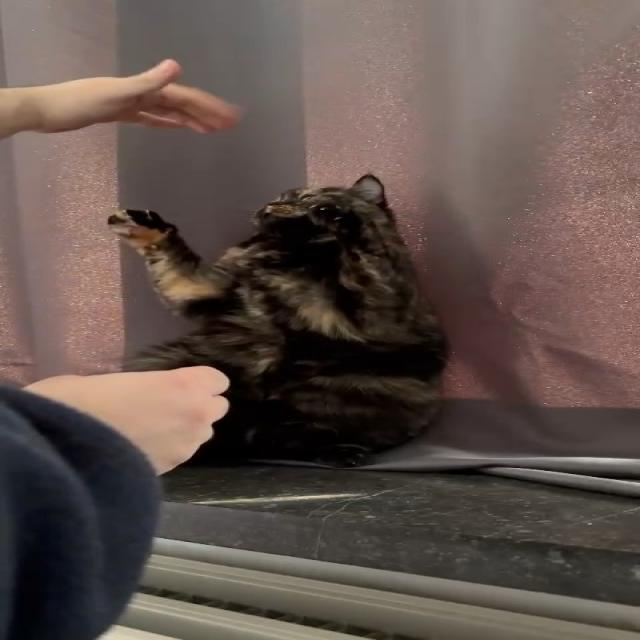authorized: (106, 172, 450, 468)
